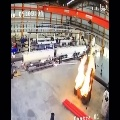fire: (75, 48, 95, 97)
